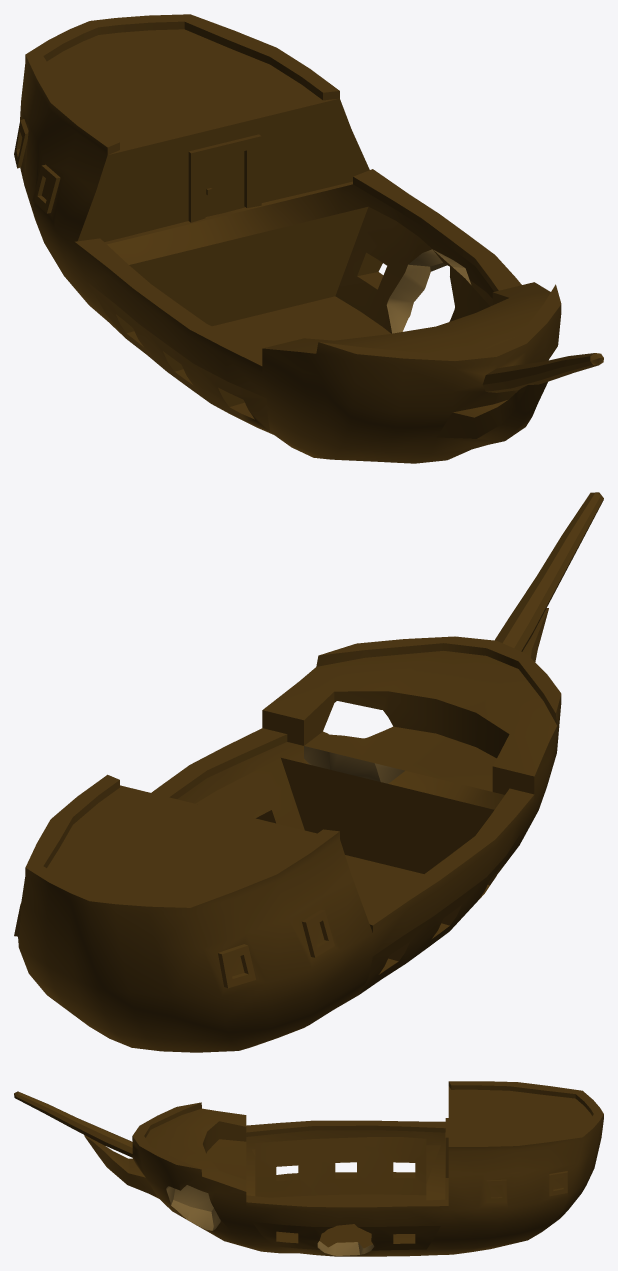
File: LeftCenterBrokenShip.fbx
3 renders of one model, top to bottom at view 1: azimuth 30°, elevation 25°; view 2: azimuth 150°, elevation 25°; view 3: azimuth 270°, elevation 25°, orthographic. The views are drawn at different scales.
Visible parts, largest first — view 1: MainShipBody002; view 2: MainShipBody002; view 3: MainShipBody002.
Part boxes in pixels (box(x1,y1,x2,y2)): MainShipBody002: box(14, 14, 603, 463); MainShipBody002: box(14, 492, 603, 1052); MainShipBody002: box(14, 1081, 603, 1256).
Size of the model in its own units: 507 by 1461 by 381.
